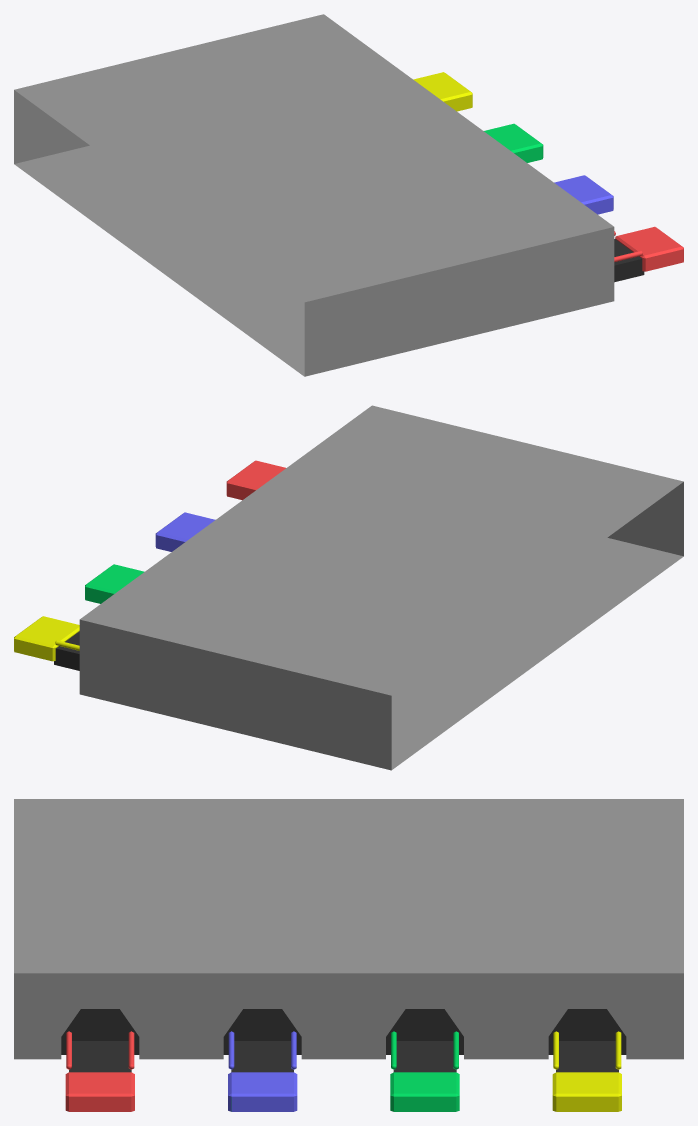
The model's file is conveyer.fbx.
3 views of the same model, one above another, from view 1: azimuth 30°, elevation 25°; view 2: azimuth 150°, elevation 25°; view 3: azimuth 270°, elevation 25° (orthographic). The views are drawn at different scales.
Visible parts, largest first — view 1: polySurface1, polySurface4, polySurface3, polySurface2, pCube17, pCube31, pCube30, pCube32, pCube26; view 2: polySurface4, polySurface1, polySurface2, polySurface3, pCube32, pCube30, pCube17, pCube31, pCube35; view 3: polySurface4, polySurface1, polySurface2, polySurface3, pCube17, pCube30, pCube32, pCube31, pCube34, pCube35, pCube26, pCube33.
Boxes of the visible parts, x1,y1,x2,y2 form: polySurface1: (232, 173, 614, 376); polySurface4: (14, 14, 395, 217); polySurface3: (87, 67, 468, 270); polySurface2: (159, 120, 541, 323); pCube17: (615, 226, 683, 271); pCube31: (484, 123, 543, 162); pCube30: (554, 175, 613, 214); pCube32: (413, 72, 472, 111); pCube26: (614, 239, 644, 282); polySurface4: (79, 566, 464, 770); polySurface1: (299, 405, 683, 609); polySurface2: (226, 459, 610, 663); polySurface3: (153, 512, 537, 716); pCube32: (14, 616, 79, 661); pCube30: (155, 512, 215, 551); pCube17: (226, 460, 285, 500); pCube31: (85, 564, 144, 603); pCube35: (54, 631, 79, 670); polySurface4: (516, 799, 683, 1059); polySurface1: (14, 799, 181, 1059); polySurface2: (181, 799, 348, 1059); polySurface3: (349, 799, 516, 1059); pCube17: (65, 1072, 134, 1111); pCube30: (228, 1072, 297, 1111); pCube32: (552, 1072, 621, 1111); pCube31: (390, 1072, 459, 1111); pCube34: (393, 1041, 456, 1072); pCube35: (556, 1041, 618, 1072); pCube26: (69, 1041, 131, 1072); pCube33: (231, 1041, 293, 1072).
Size of the model in its own units: 25.29 by 4.71 by 31.55.
